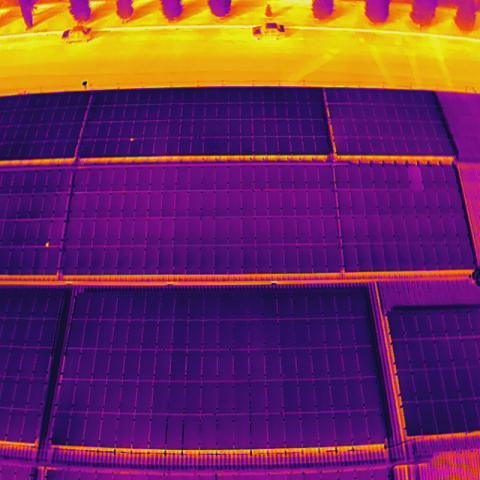fault: (44, 241, 50, 248), (129, 137, 134, 143)
